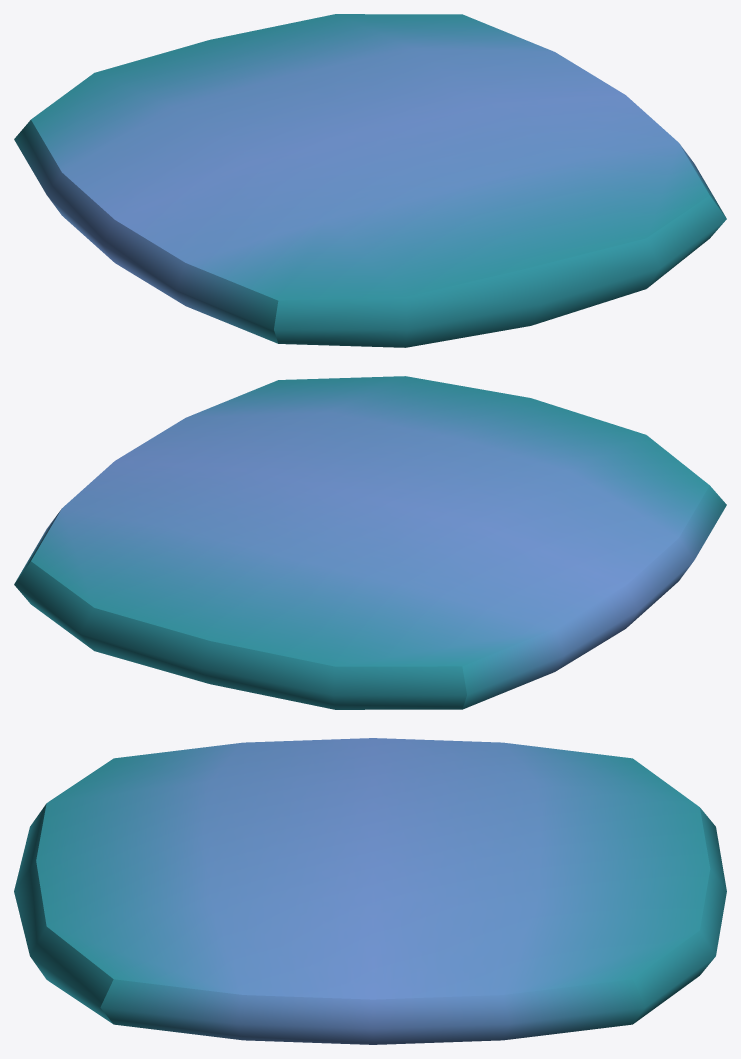
The model's file is SM_SnailTrail_02.fbx.
The picture shows the model from 3 angles, top to bottom: view 1: azimuth 30°, elevation 25°; view 2: azimuth 150°, elevation 25°; view 3: azimuth 270°, elevation 25°; orthographic projection. The views are drawn at different scales.
Visible parts, largest first — view 1: Slem; view 2: Slem; view 3: Slem.
Boxes of the visible parts, left/top/right/bottom form: Slem: left=14, top=14, right=726, bottom=347; Slem: left=14, top=376, right=726, bottom=709; Slem: left=14, top=738, right=726, bottom=1044.
Bounding box in the file's own units: 83.1 × 11.54 × 91.15.
